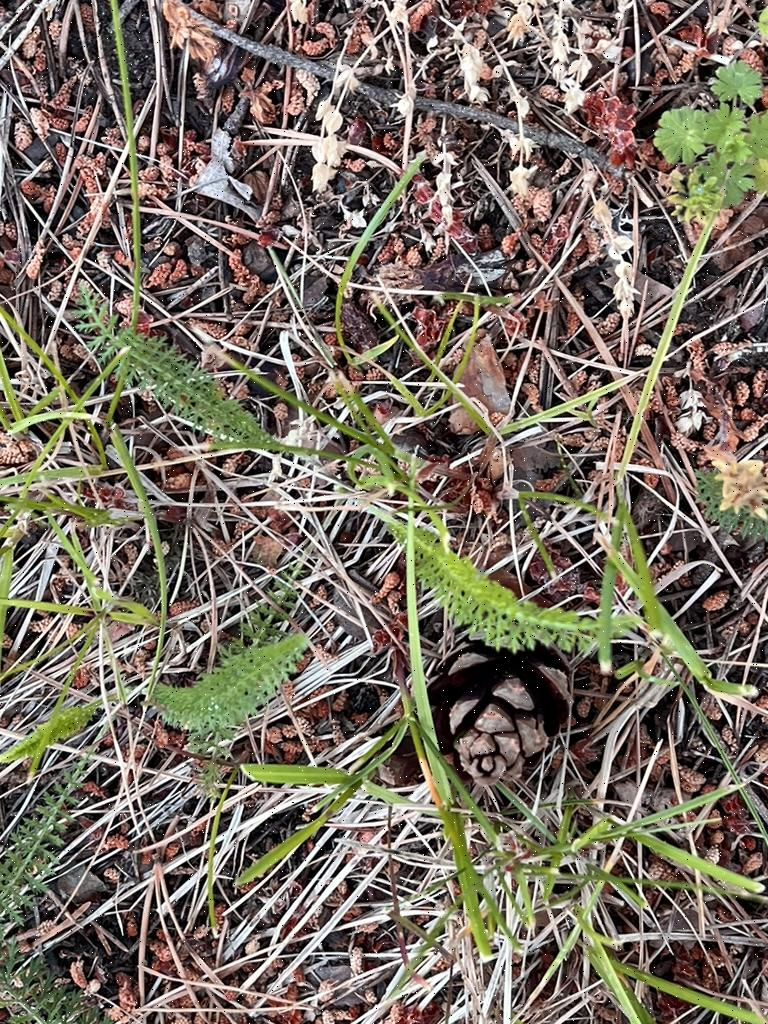pine: (421, 603, 596, 820)
